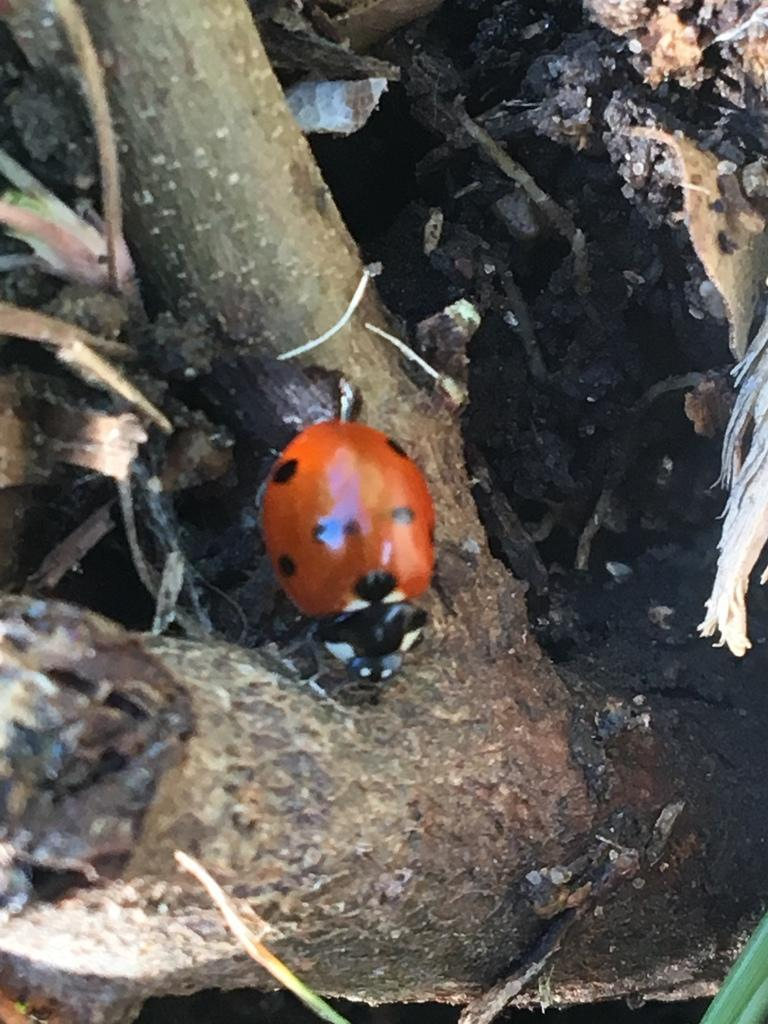ladybug: (254, 416, 446, 696)
